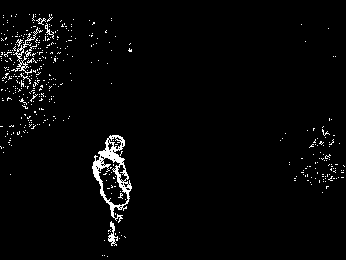person: (93, 133, 131, 246)
